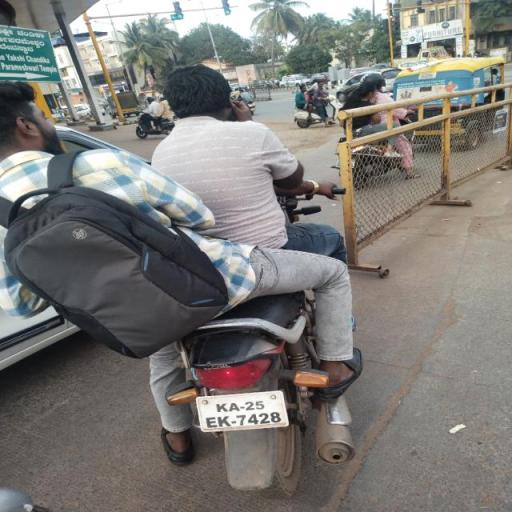bike: (0, 55, 386, 503)
numberplate: (192, 386, 292, 432)
withouthelmet: (0, 84, 40, 154), (169, 64, 221, 116)
